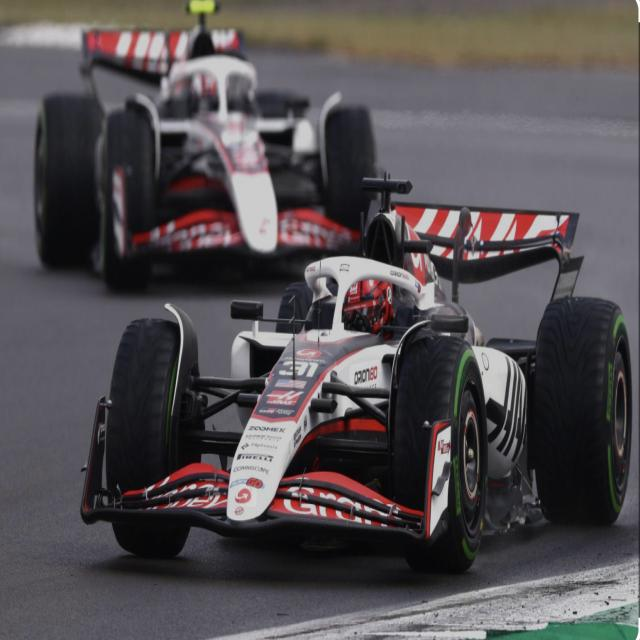Haas: (81, 176, 634, 584), (34, 2, 378, 296)
